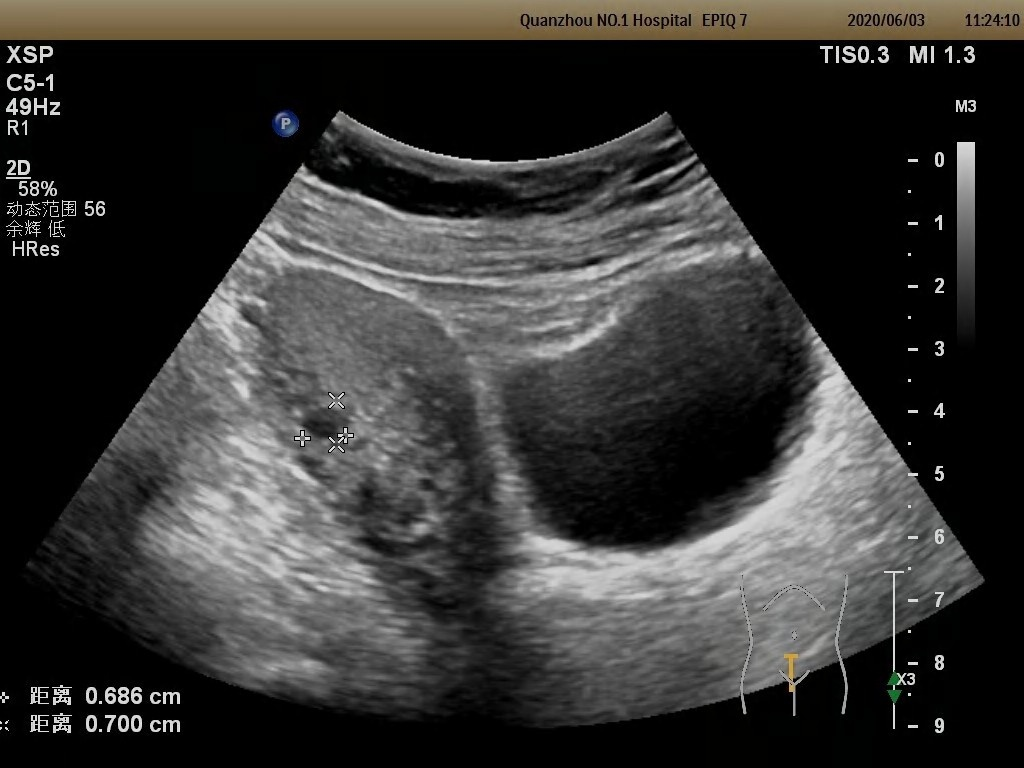肌瘤: (302, 401, 346, 444)
